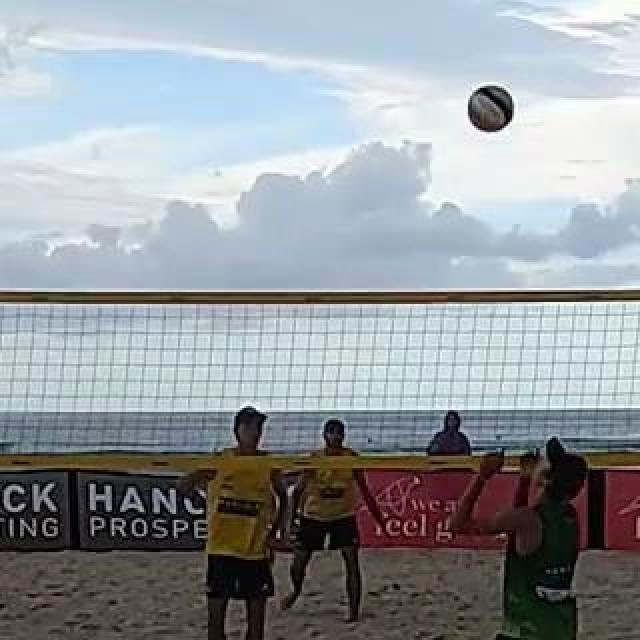volleyball: (468, 86, 514, 132)
